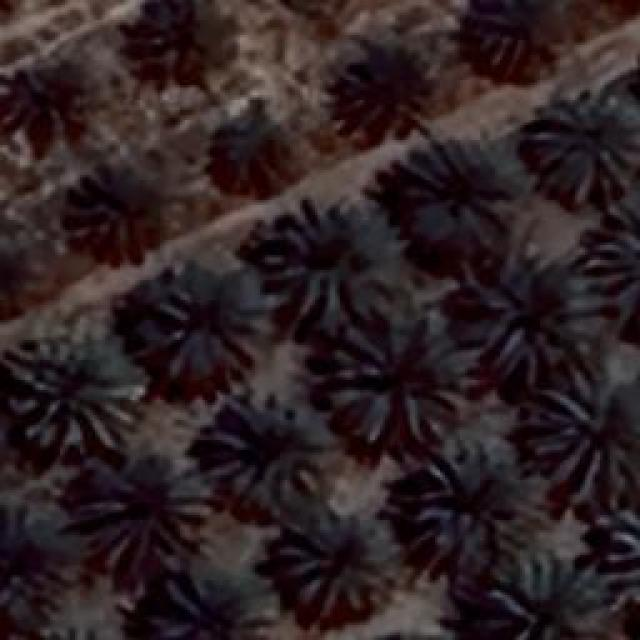PalmTree: (101, 19, 615, 566), (50, 138, 101, 631), (325, 310, 480, 448), (402, 438, 548, 560), (200, 382, 332, 510), (268, 202, 402, 322), (15, 330, 143, 450), (468, 255, 588, 383), (270, 502, 400, 616), (522, 362, 636, 482), (528, 84, 638, 208), (155, 270, 275, 382), (82, 460, 210, 562), (398, 154, 508, 258), (487, 552, 615, 638), (140, 570, 260, 640), (78, 171, 162, 264), (338, 56, 432, 136), (582, 192, 638, 326), (0, 505, 60, 630), (473, 0, 561, 82), (5, 68, 103, 140), (208, 111, 294, 191), (144, 0, 226, 80), (0, 237, 31, 316), (24, 624, 130, 640), (266, 0, 352, 17)
